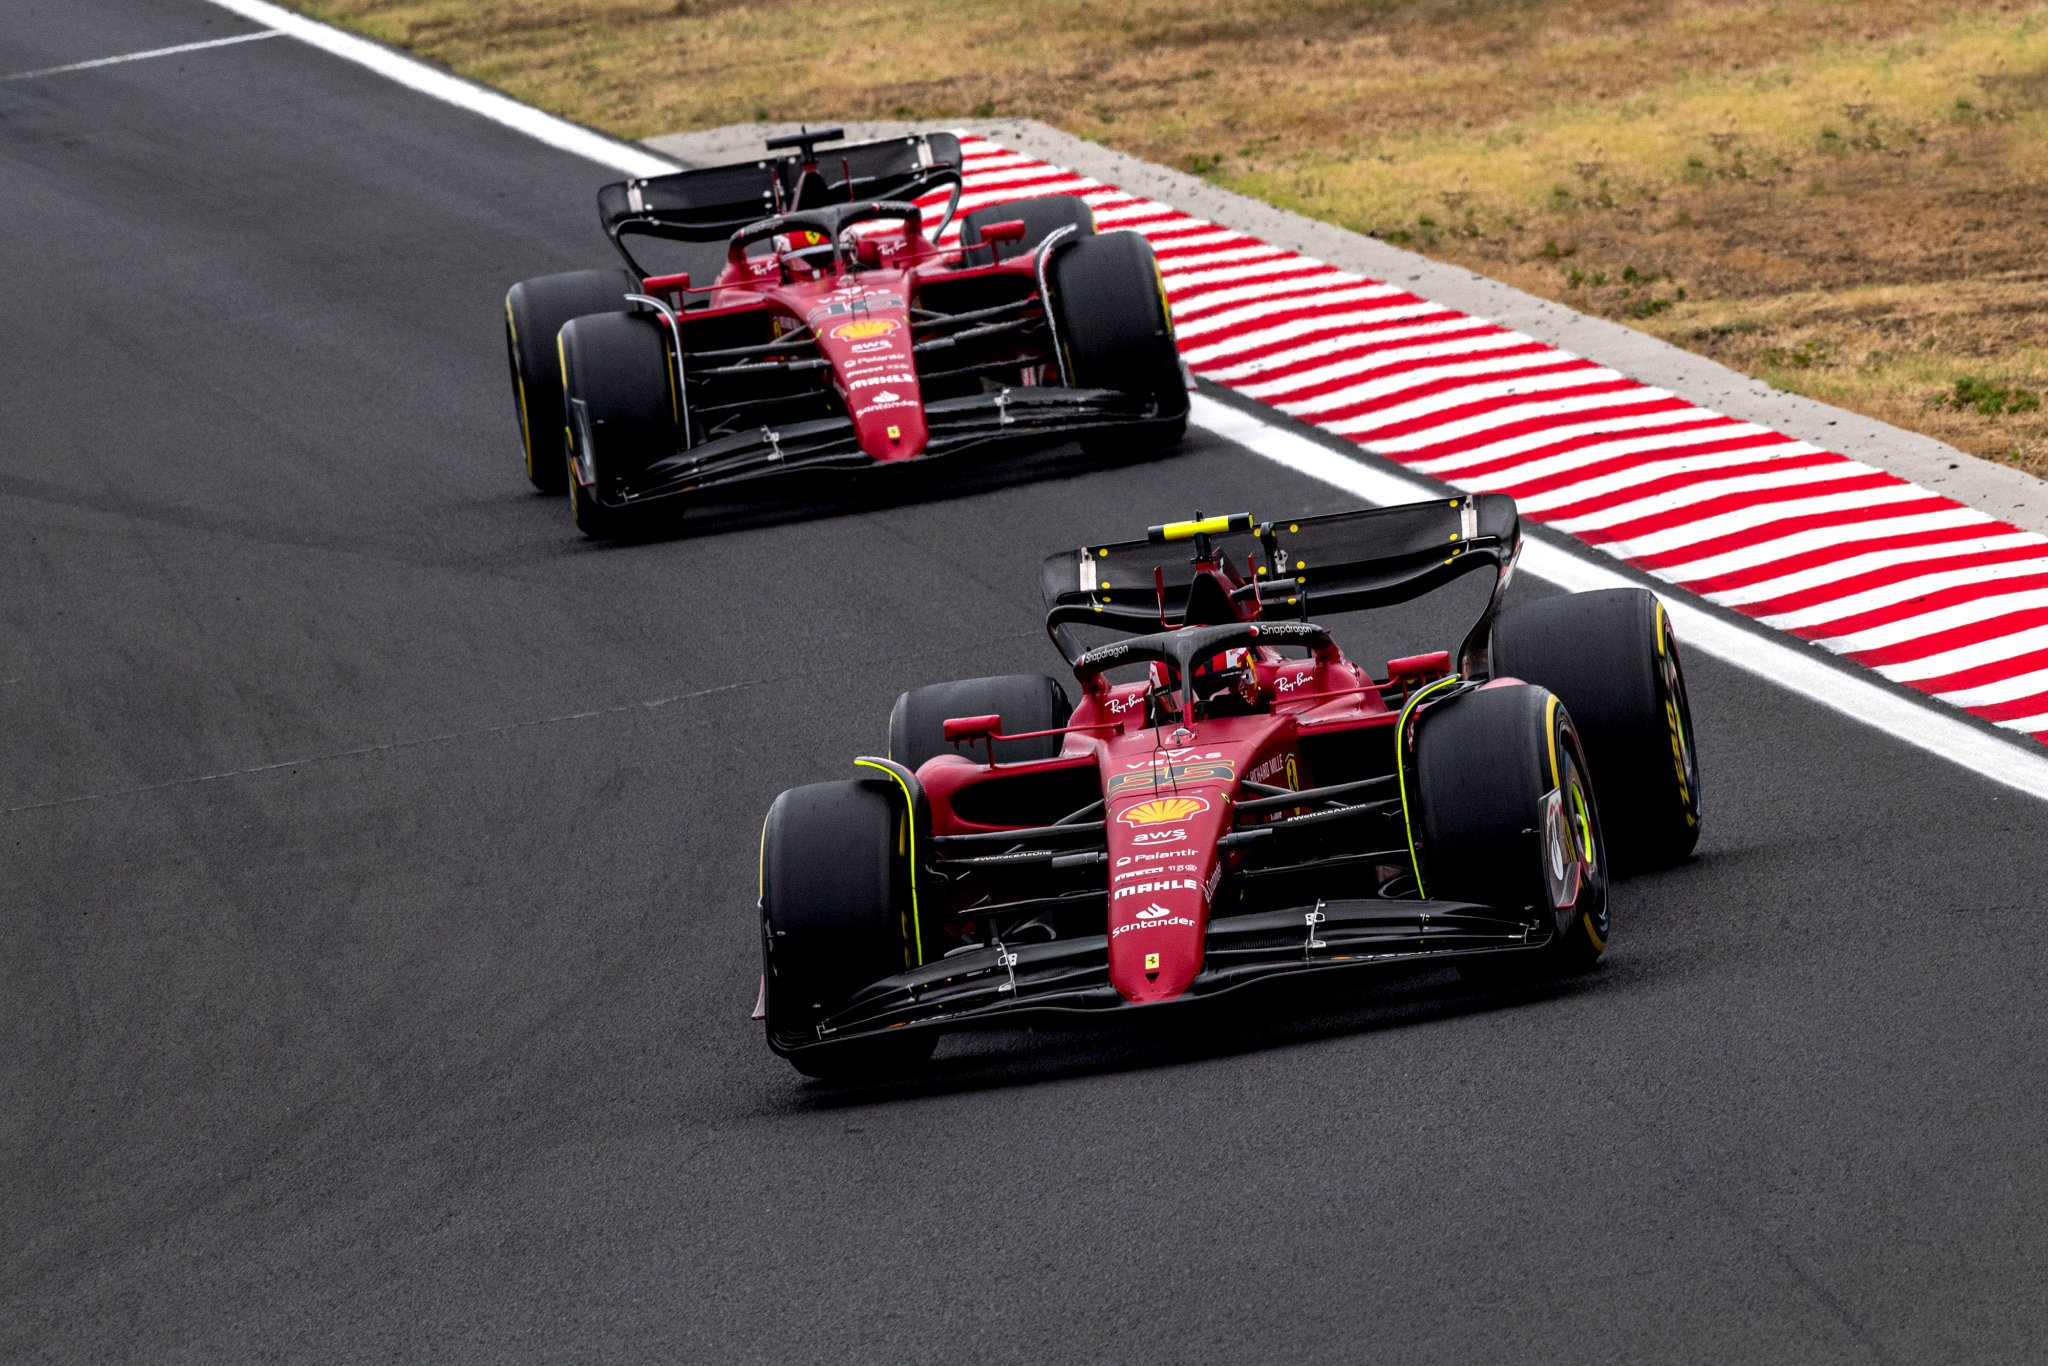Bobsleigh: (763, 502, 1705, 1079), (494, 127, 1179, 526)
